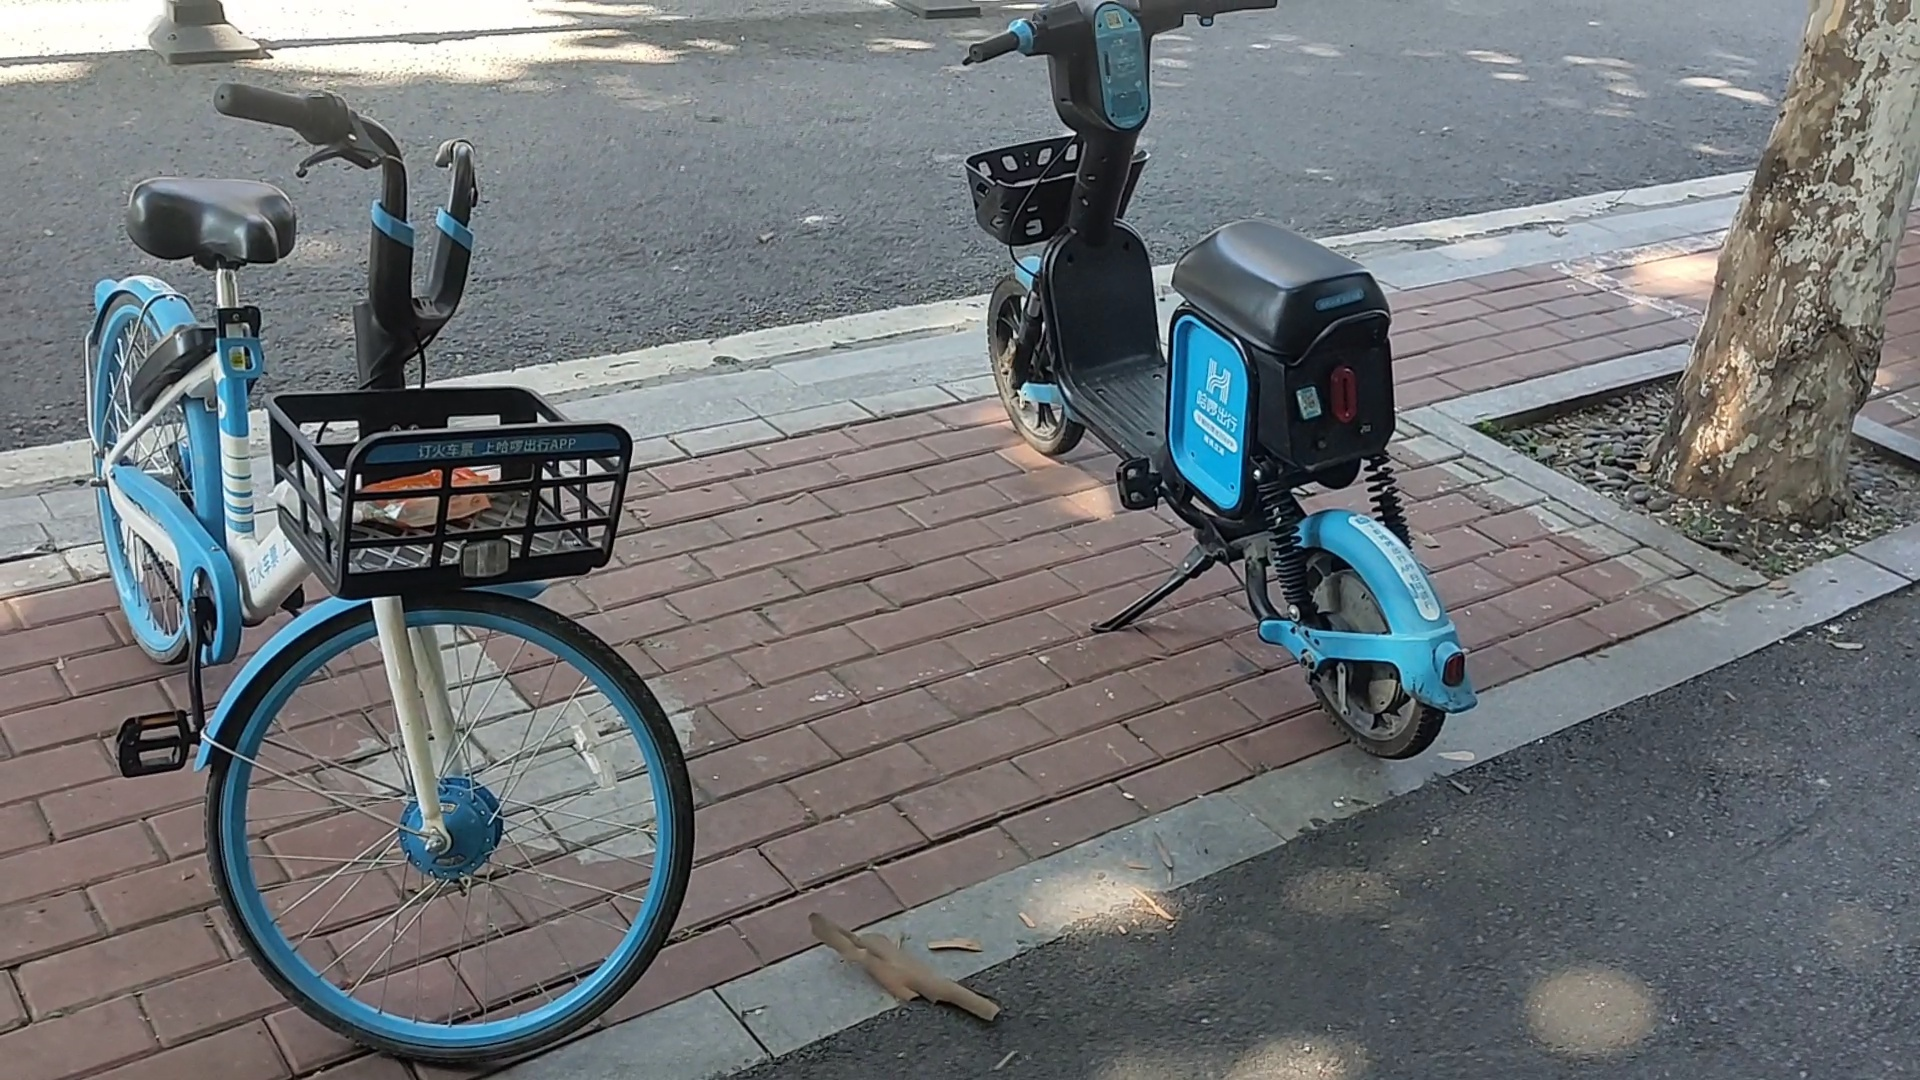non-vehicle: (37, 42, 682, 1040), (953, 0, 1480, 775)
